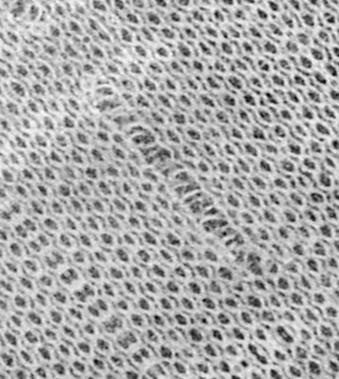slub: (90, 74, 270, 293)
